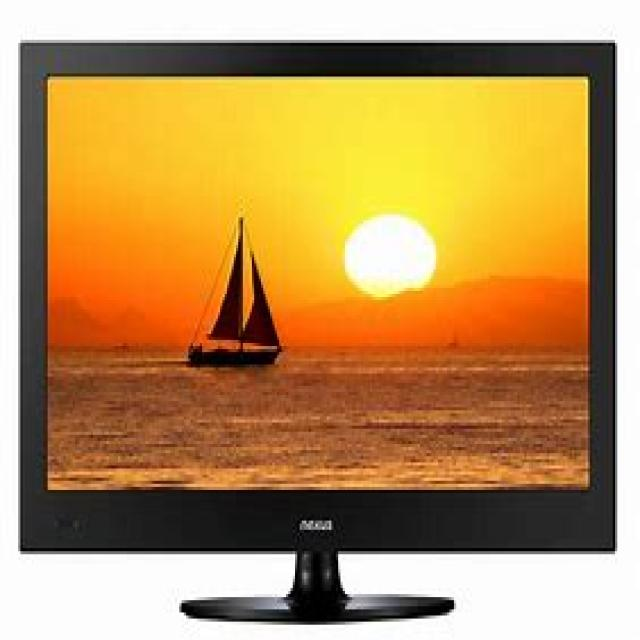tv: (18, 36, 617, 622)
